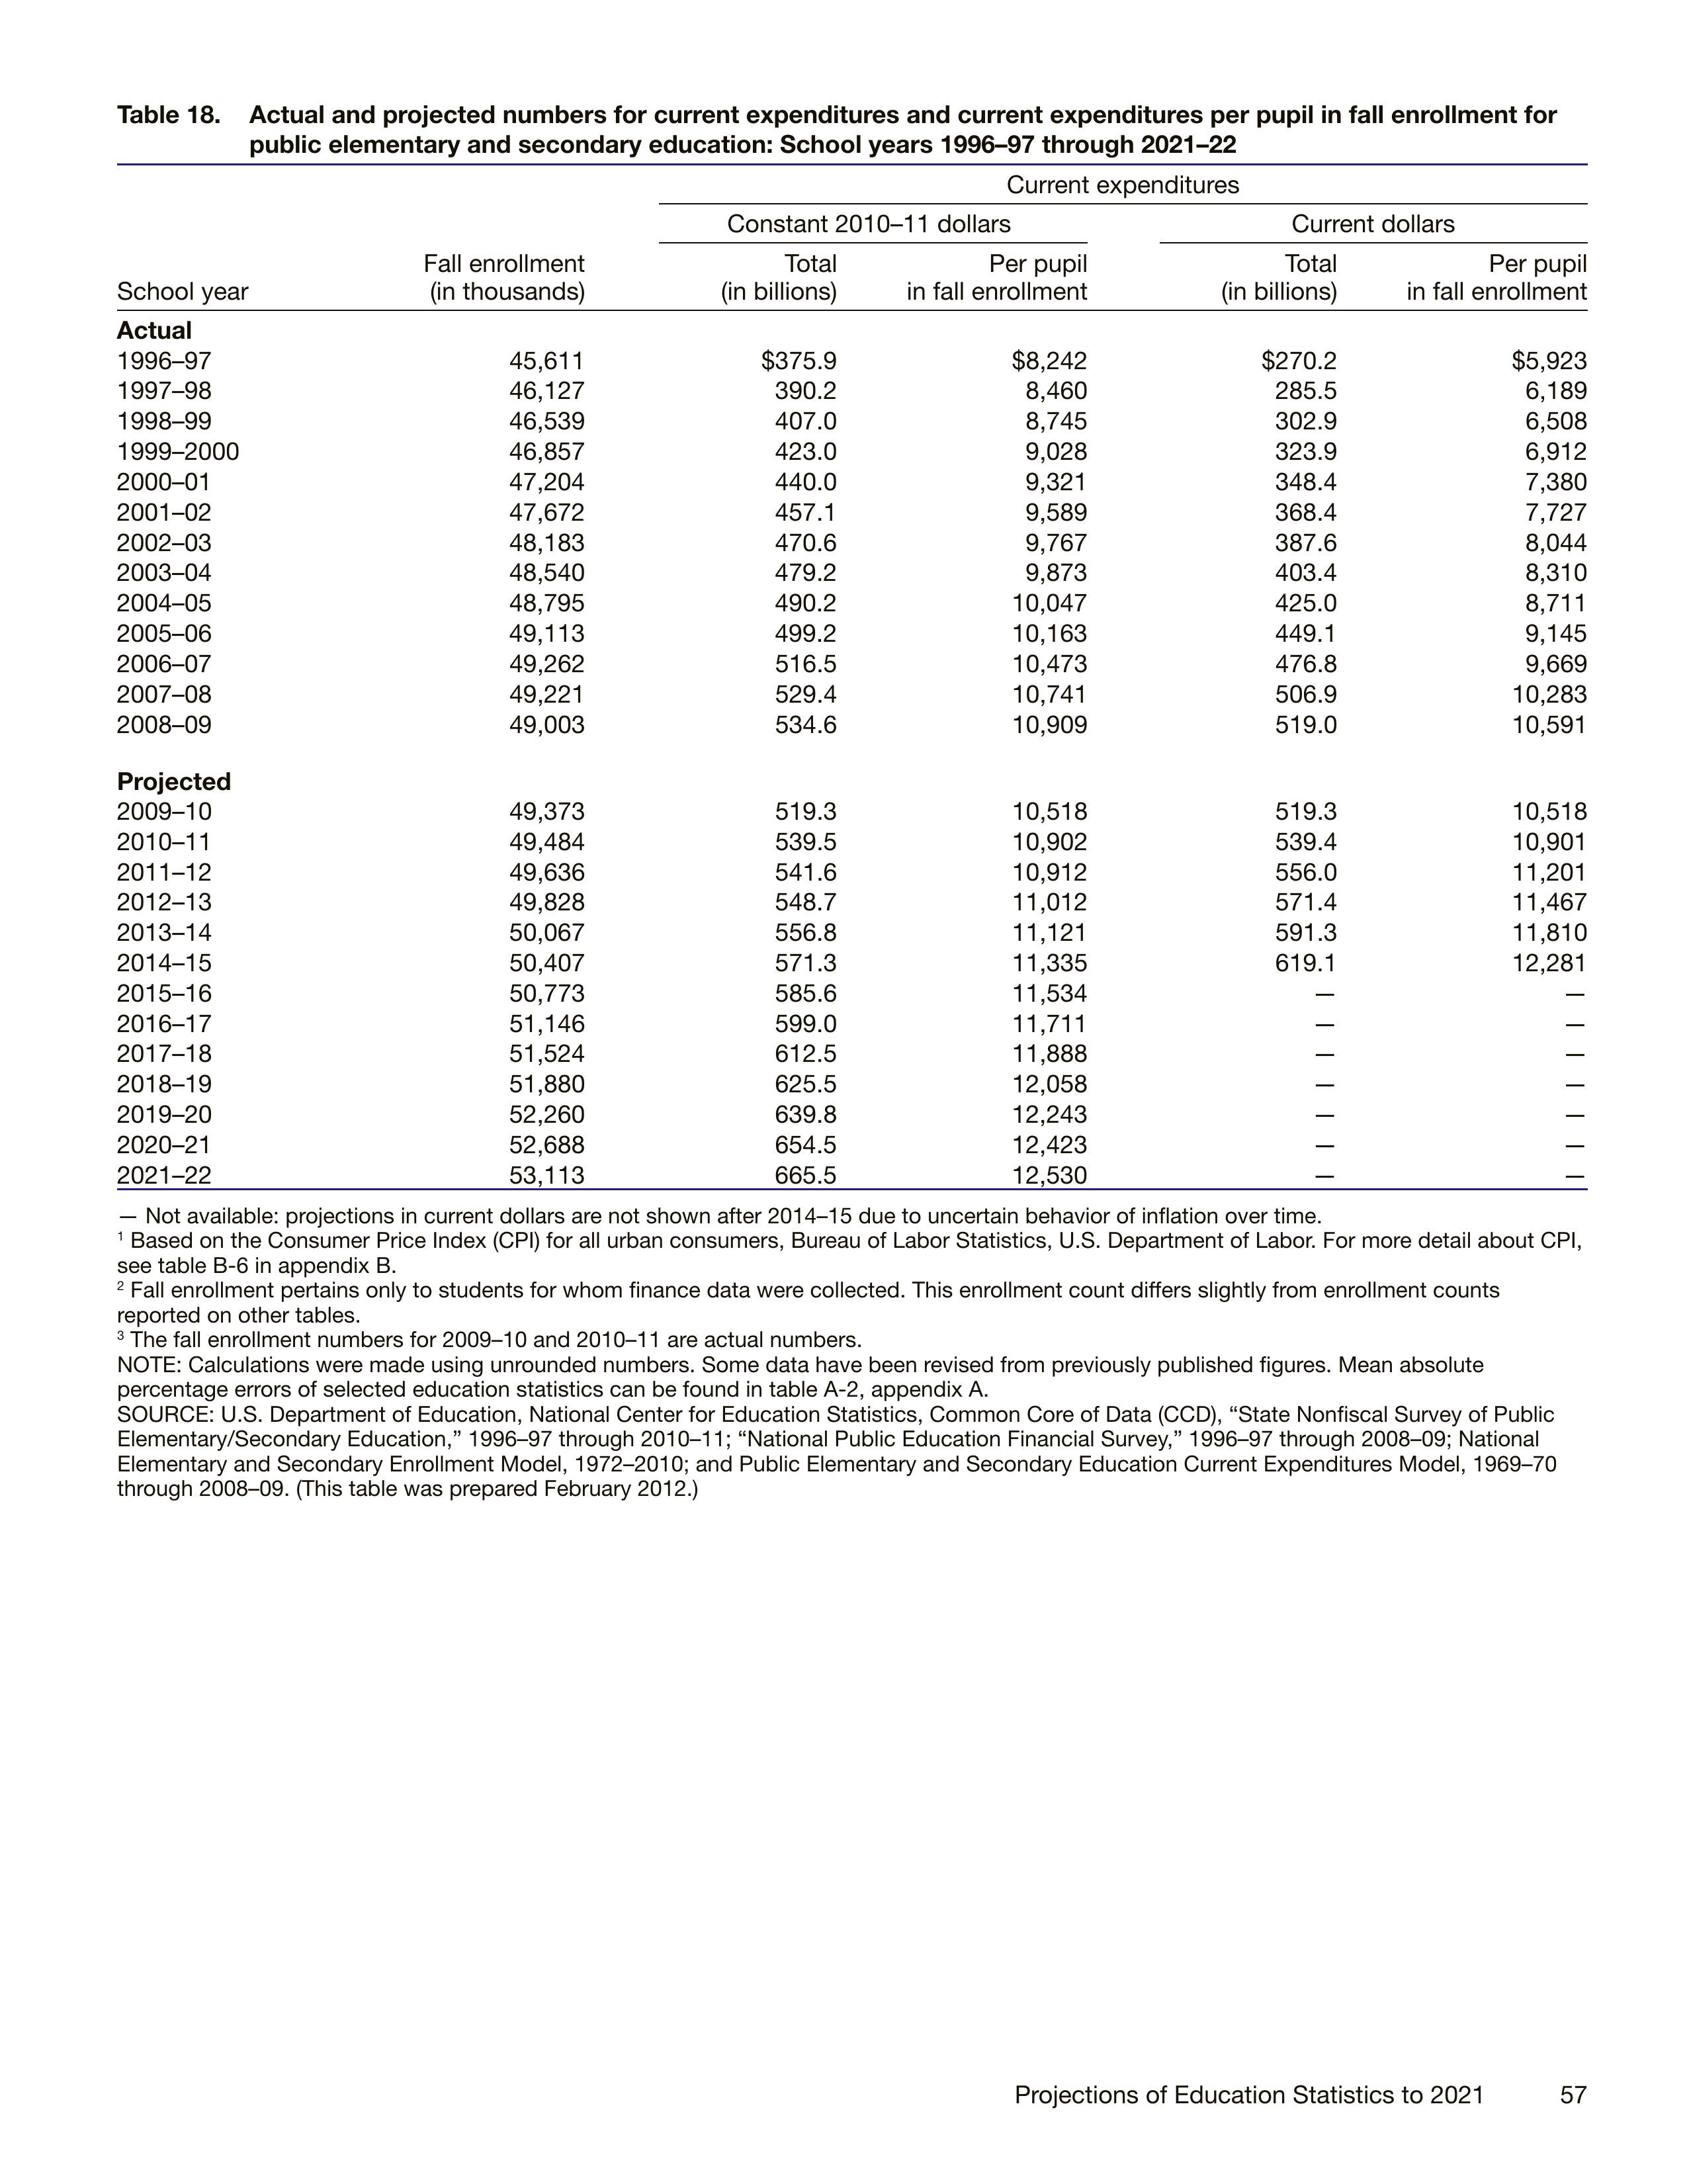table: (101, 156, 1602, 1196)
